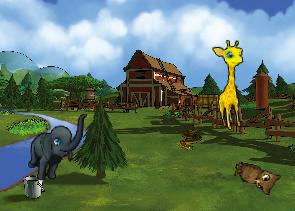elephant: (27, 110, 87, 183)
giraffe: (211, 38, 252, 131)
owl: (230, 161, 281, 197)
